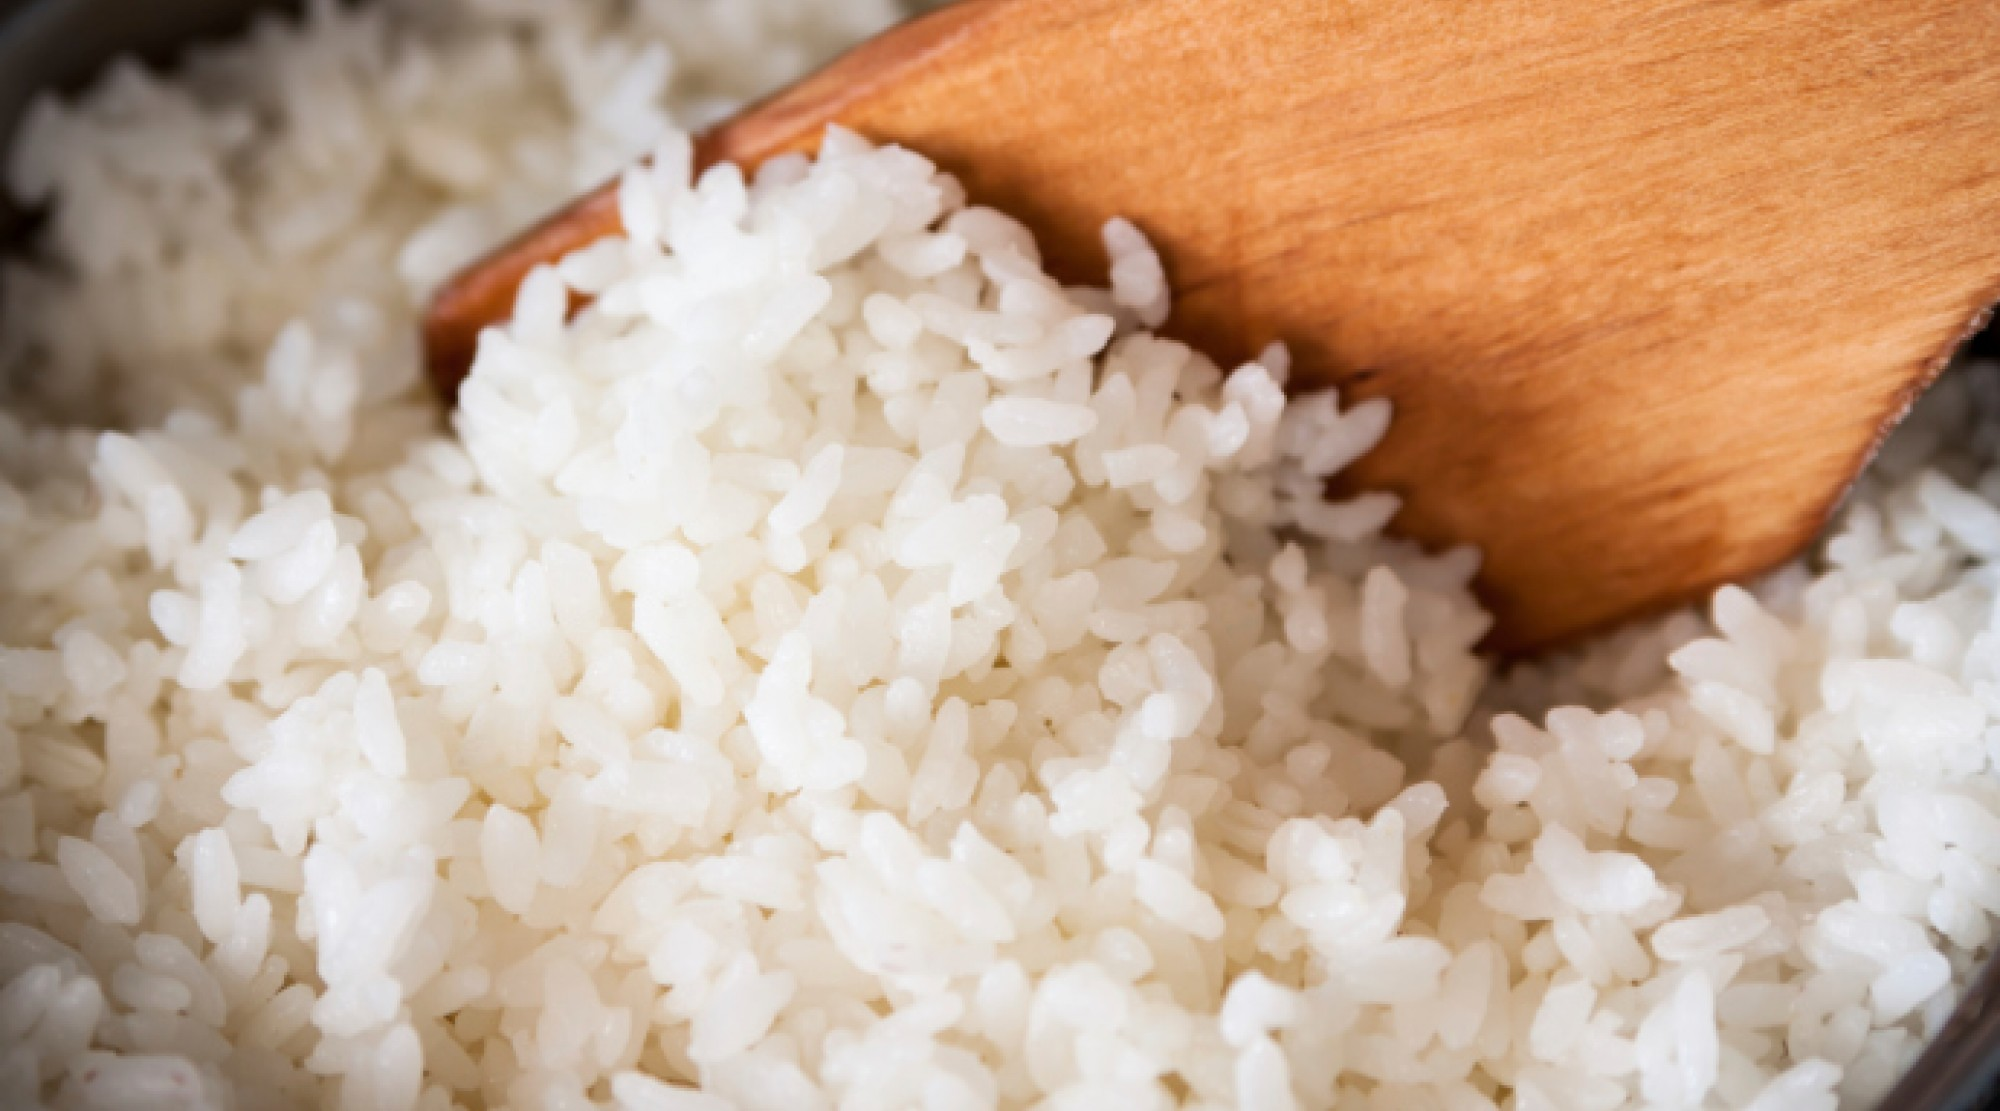rice: (166, 432, 1665, 1111)
